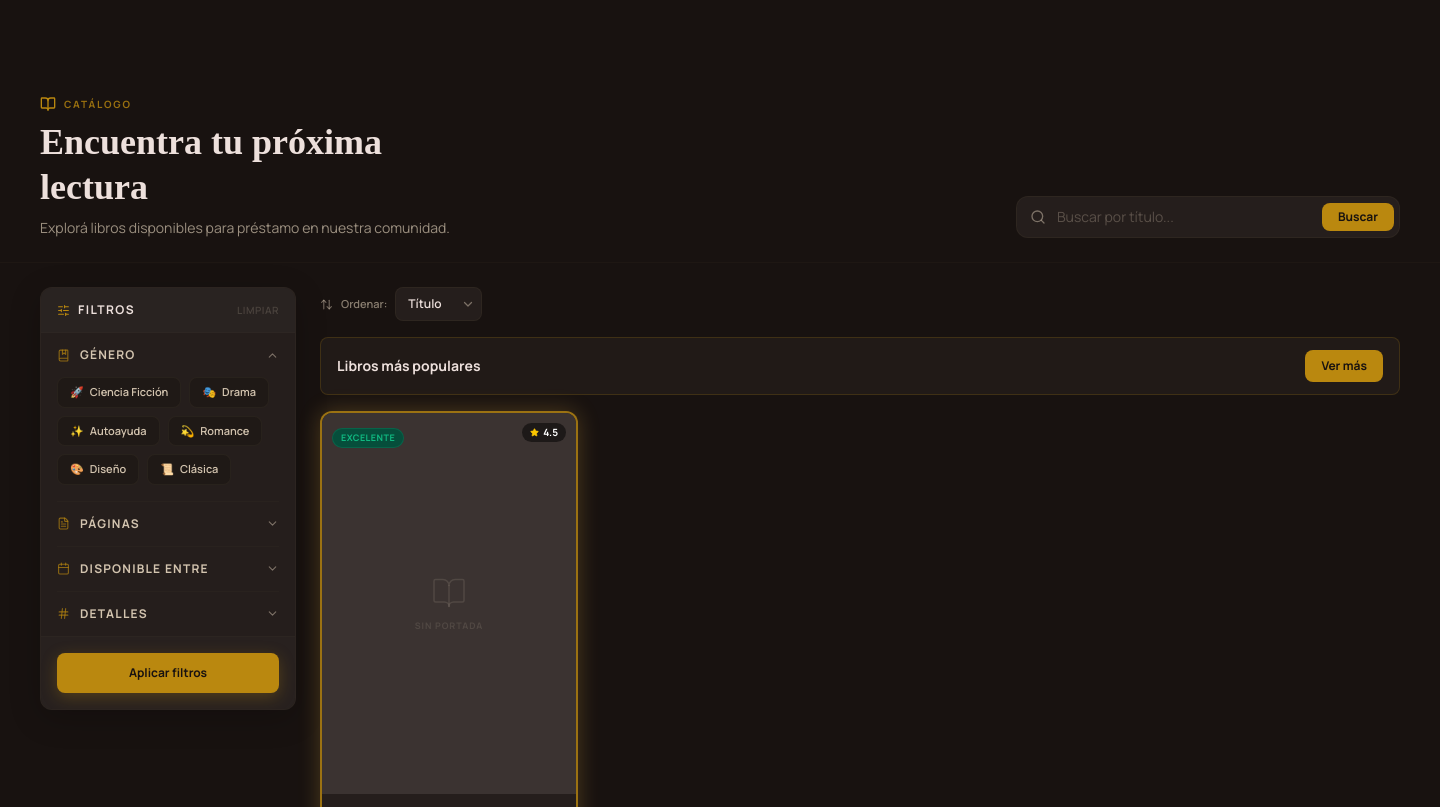
Home › al hacer click en Ver más carga el catálogo desde Mongo y habilita el paginado
The width and height of the screenshot is (1440, 807).
Click the button "Ver más". click: (1344, 366)
box: 1305,350 -> 1383,382
(page scrolled)
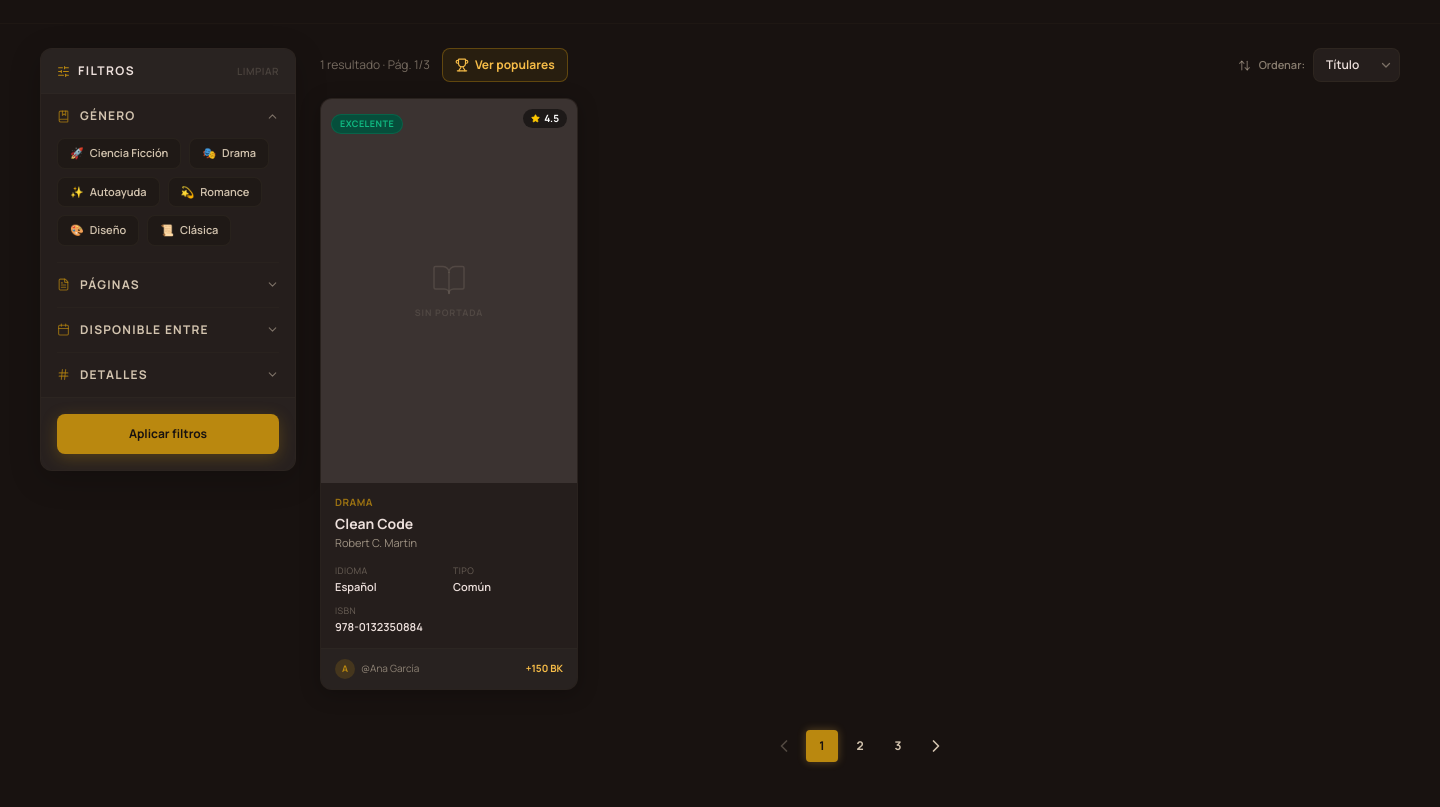
Check: the heading "Libros más populares" is gone
Check: the button "Ver más" is gone
Check: the button "Ver populares" is shown, box 442,48 -> 568,82
